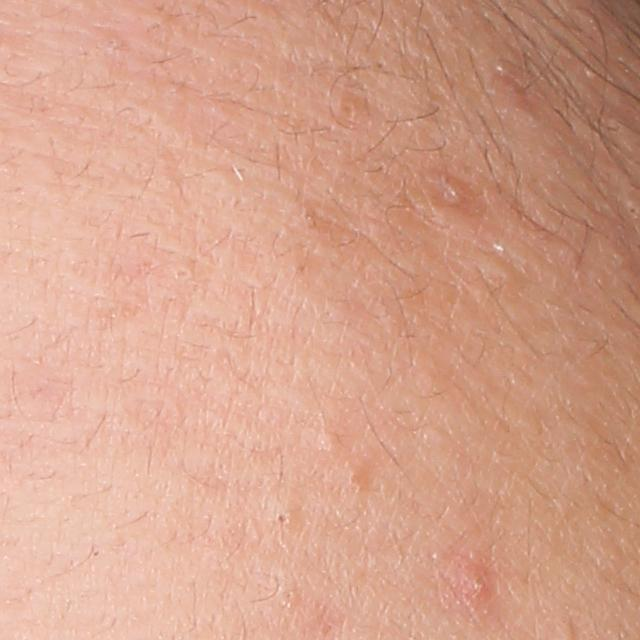comedo: (433, 175, 472, 212), (315, 430, 340, 450), (271, 507, 294, 528), (171, 264, 195, 284)
papule: (448, 558, 495, 605)
